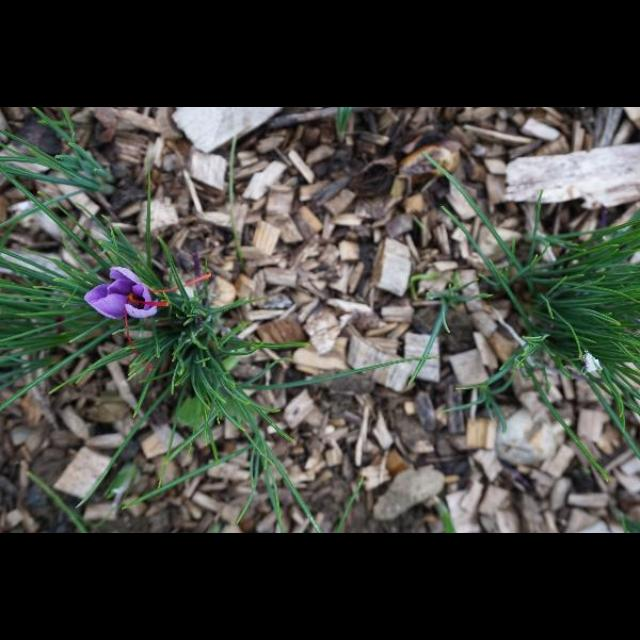flower: (83, 266, 211, 372)
